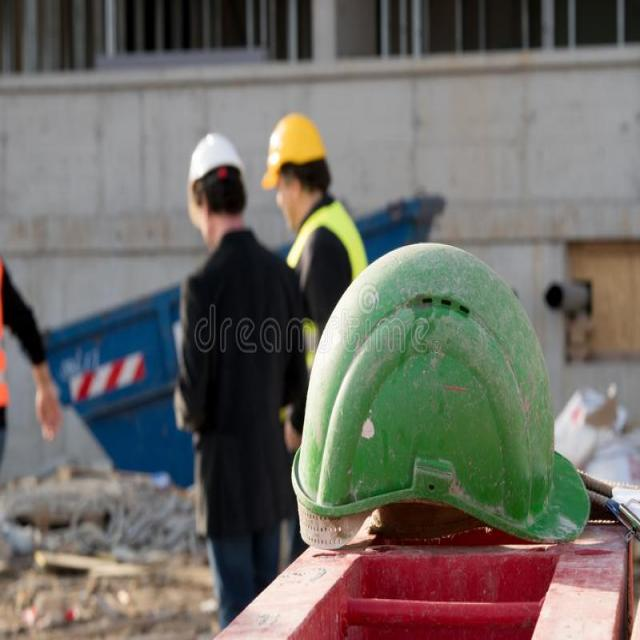Reflective-Jacket: (280, 194, 379, 416), (0, 228, 18, 425)
Safety-Helmet: (286, 246, 596, 546), (258, 106, 333, 194), (184, 124, 248, 193)
